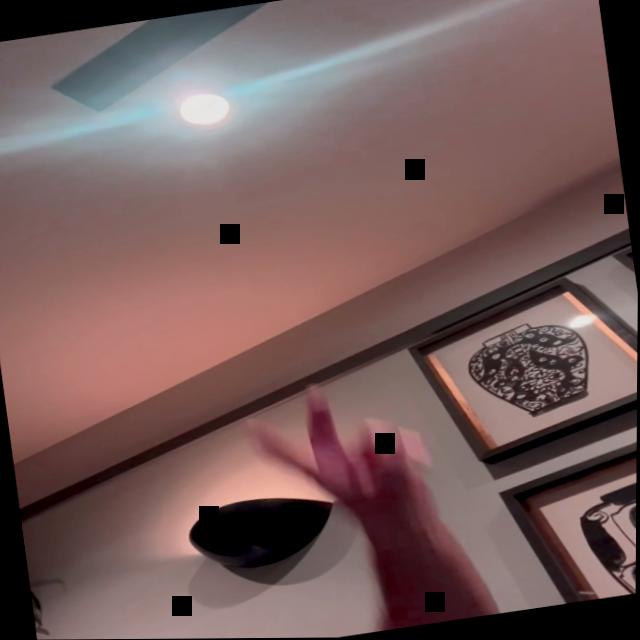Scissors: (240, 371, 440, 538)
